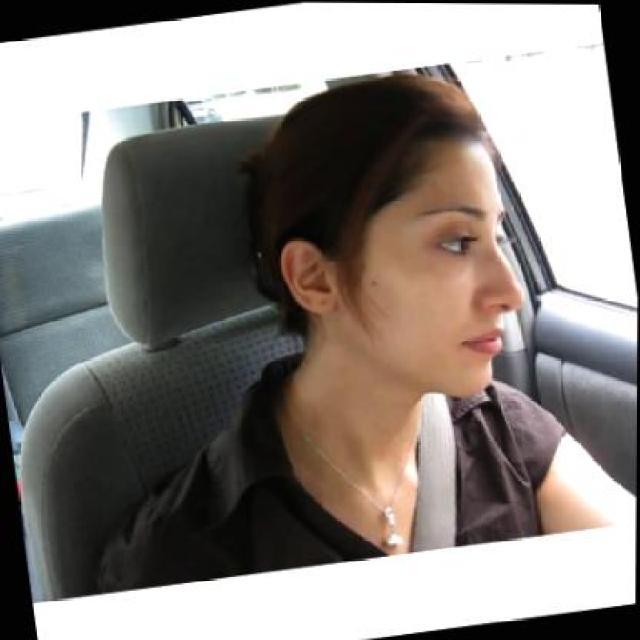attentif: (225, 59, 538, 423)
